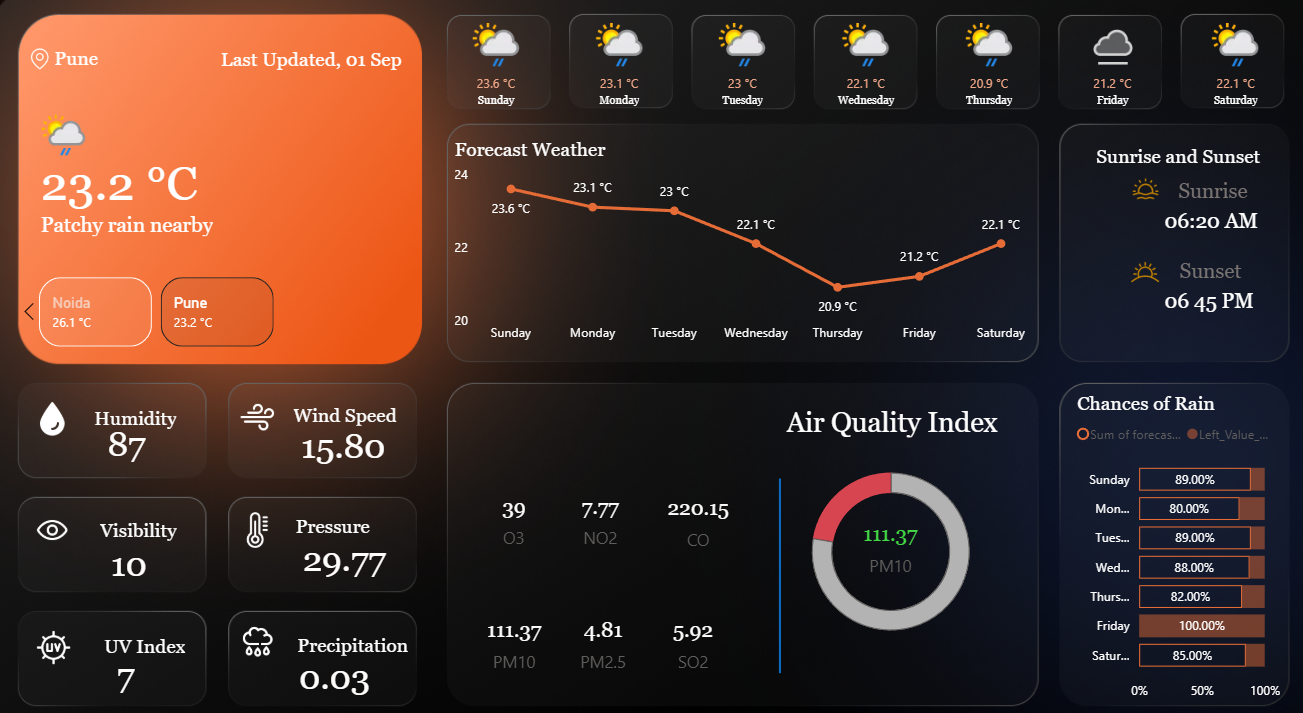

The dashboard page shown, as its layout file describes it:
{"tool":"powerbi","page":{"name":"Page 1","canvas":[1280,720],"ordinal":0},"visuals":[{"type":"advancedSlicerVisual","fields":{"Values":["Location.location.name"]},"box":[21,270.9,395.1,77.4],"z":0},{"type":"shape","box":[46.7,145.5,171.5,79.6],"z":1000},{"type":"shape","box":[46.6,196.2,324.2,58.2],"z":2000},{"type":"shape","box":[207.2,41.2,188,49.4],"z":3000},{"type":"shape","box":[60.4,43.9,102.9,42.5],"z":4000},{"type":"image","box":[22,50.8,49.4,30.2],"z":5000},{"type":"cardVisual","fields":{"Data":["Min(Current.current.condition.icon)"]},"box":[0,94.8,111.4,79.8],"z":6000},{"type":"image","box":[36.4,497.9,44.3,44.3],"z":7000},{"type":"image","box":[233.9,388.8,44.3,45.8],"z":8000},{"type":"image","box":[36.4,390.4,44.3,44.3],"z":9000},{"type":"image","box":[233.9,497.9,44.3,44.3],"z":10000},{"type":"image","box":[233.9,605.4,45,45],"z":11000},{"type":"image","box":[37.9,611.7,44.3,44.3],"z":12000},{"type":"shape","box":[77.5,387.3,101.2,50.6],"z":13000},{"type":"shape","box":[85.4,607,101.2,50.6],"z":14000},{"type":"shape","box":[289.3,605.4,112.2,50.6],"z":15000},{"type":"shape","box":[276.6,491.6,88.5,50.6],"z":16000},{"type":"shape","box":[93.3,494.7,85.4,50.6],"z":17000},{"type":"shape","box":[289.3,384.1,101.2,50.6],"z":18000},{"type":"card","fields":{"Values":["Sum(Current.current.humidity)"]},"box":[85.4,399.9,88.5,74.3],"z":19000},{"type":"card","fields":{"Values":["Sum(Current.current.wind_kph)"]},"box":[286,405.7,106.4,64.8],"z":20000},{"type":"card","fields":{"Values":["Sum(Current.current.vis_km)"]},"box":[96.4,520,71.1,64.8],"z":21000},{"type":"card","fields":{"Values":["Sum(Current.current.pressure_in)"]},"box":[289.3,509,101.2,75.9],"z":22000},{"type":"card","fields":{"Values":["Sum(Current.current.uv)"]},"box":[90.1,633.8,77.5,52.2],"z":23000},{"type":"card","fields":{"Values":["Sum(Current.current.precip_mm)"]},"box":[289.3,633.8,82.2,55.3],"z":24000},{"type":"advancedSlicerVisual","fields":{"Values":["Forecast_Day.Day_Name"]},"box":[429.9,17.4,828.3,124.9],"z":25000},{"type":"lineChart","title":"Forecast Weather","fields":{"Y":["Sum(Forecast_Day.forecast.forecastday.day.avgtemp_c)"],"Category":["Forecast_Day.Day_Name"]},"box":[441,142.3,569,205.5],"z":26000},{"type":"shape","box":[1052.7,134.4,183.4,50.6],"z":27000},{"type":"shape","box":[1131.7,196,102.7,52.2],"z":28000},{"type":"shape","box":[1146,241.8,90.1,56.9],"z":29000},{"type":"shape","box":[1131.7,276.6,104.3,44.3],"z":30000},{"type":"shape","box":[1144.4,173.9,75.9,37.9],"z":31000},{"type":"image","box":[1081.2,173.9,64.8,34.8],"z":32000},{"type":"image","box":[1084.3,248.2,56.9,45.8],"z":33000},{"type":"hundredPercentStackedBarChart","title":"Chances of Rain","fields":{"Category":["Forecast_Day.Day_Name"],"Y":["Sum(Forecast_Day.forecast.forecastday.day.daily_chance_of_rain)","_Measures.Left_Value_Rain"]},"box":[1042.6,387.4,206.2,306],"z":34000},{"type":"shape","box":[734.9,390.8,267.7,49.9],"z":35000},{"type":"card","fields":{"Values":["Sum(Current.current.air_quality.co)"]},"box":[628.5,465.6,106.4,89.8],"z":36000},{"type":"card","fields":{"Values":["Sum(Current.current.air_quality.o3)"]},"box":[457.3,463.9,93.1,89.8],"z":37000},{"type":"card","fields":{"Values":["Sum(Current.current.air_quality.so2)"]},"box":[628.5,583.6,96.4,89.8],"z":38000},{"type":"card","fields":{"Values":["Sum(Current.current.air_quality.pm2_5)"]},"box":[538.7,583.6,101.4,89.8],"z":39000},{"type":"card","fields":{"Values":["Sum(Forecast_Day.forecast.forecastday.day.air_quality.pm10)"]},"box":[460.6,583.6,86.5,89.8],"z":40000},{"type":"card","fields":{"Values":["Sum(Current.current.air_quality.no2)"]},"box":[547.1,467.2,81.5,84.8],"z":41000},{"type":"shape","box":[734.9,470.6,51.5,187.9],"z":42000},{"type":"card","fields":{"Values":["Sum(Forecast_Day.forecast.forecastday.day.air_quality.pm10)"]},"box":[824.2,491.3,86.5,89.5],"z":43000},{"type":"donutChart","fields":{"Y":["_Measures.Left_Value_PM10","Sum(Forecast_Day.forecast.forecastday.day.air_quality.pm10)"]},"box":[767.5,439.6,200.6,204.1],"z":43001}]}

Visuals, with their boxes in screenshot pixels (x1, y1, x2, y2), scaled from the page's 1280x720 canvas onto the 1303x713 screenshot:
advancedSlicerVisual - Location.location.name: (21, 268, 424, 345)
shape: (48, 144, 222, 223)
shape: (47, 194, 377, 252)
shape: (211, 41, 402, 90)
shape: (61, 43, 166, 86)
image: (22, 50, 73, 80)
cardVisual - Min(Current.current.condition.icon): (0, 94, 113, 173)
image: (37, 493, 82, 537)
image: (238, 385, 283, 430)
image: (37, 387, 82, 430)
image: (238, 493, 283, 537)
image: (238, 600, 284, 644)
image: (39, 606, 84, 650)
shape: (79, 384, 182, 434)
shape: (87, 601, 190, 651)
shape: (294, 600, 409, 650)
shape: (282, 487, 372, 537)
shape: (95, 490, 182, 540)
shape: (294, 380, 398, 430)
card - Sum(Current.current.humidity): (87, 396, 177, 470)
card - Sum(Current.current.wind_kph): (291, 402, 399, 466)
card - Sum(Current.current.vis_km): (98, 515, 171, 579)
card - Sum(Current.current.pressure_in): (294, 504, 398, 579)
card - Sum(Current.current.uv): (92, 628, 171, 679)
card - Sum(Current.current.precip_mm): (294, 628, 378, 682)
advancedSlicerVisual - Forecast_Day.Day_Name: (438, 17, 1281, 141)
"Forecast Weather" lineChart: (449, 141, 1028, 344)
shape: (1072, 133, 1258, 183)
shape: (1152, 194, 1257, 246)
shape: (1167, 239, 1258, 296)
shape: (1152, 274, 1258, 318)
shape: (1165, 172, 1242, 210)
image: (1101, 172, 1167, 207)
image: (1104, 246, 1162, 291)
"Chances of Rain" hundredPercentStackedBarChart: (1061, 384, 1271, 687)
shape: (748, 387, 1021, 436)
card - Sum(Current.current.air_quality.co): (640, 461, 748, 550)
card - Sum(Current.current.air_quality.o3): (466, 459, 560, 548)
card - Sum(Current.current.air_quality.so2): (640, 578, 738, 667)
card - Sum(Current.current.air_quality.pm2_5): (548, 578, 652, 667)
card - Sum(Forecast_Day.forecast.forecastday.day.air_quality.pm10): (469, 578, 557, 667)
card - Sum(Current.current.air_quality.no2): (557, 463, 640, 547)
shape: (748, 466, 801, 652)
card - Sum(Forecast_Day.forecast.forecastday.day.air_quality.pm10): (839, 487, 927, 575)
donutChart - _Measures.Left_Value_PM10 x Sum(Forecast_Day.forecast.forecastday.day.air_quality.pm10): (781, 435, 985, 637)
